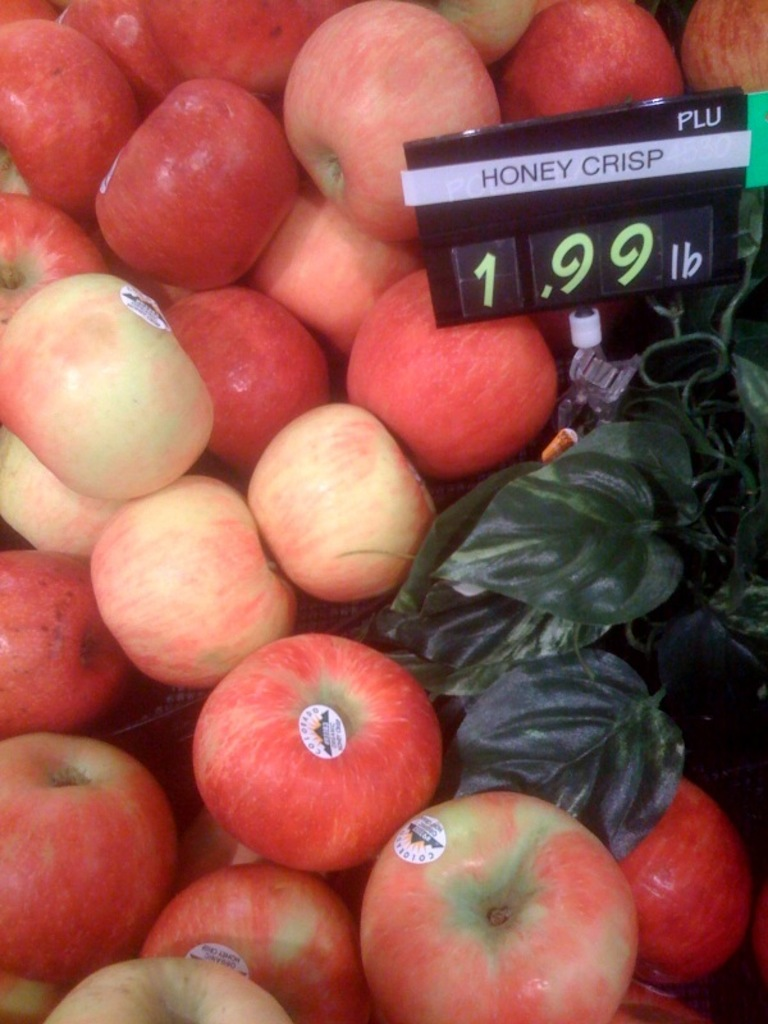Apple: (0, 0, 766, 1022), (195, 640, 446, 876)
